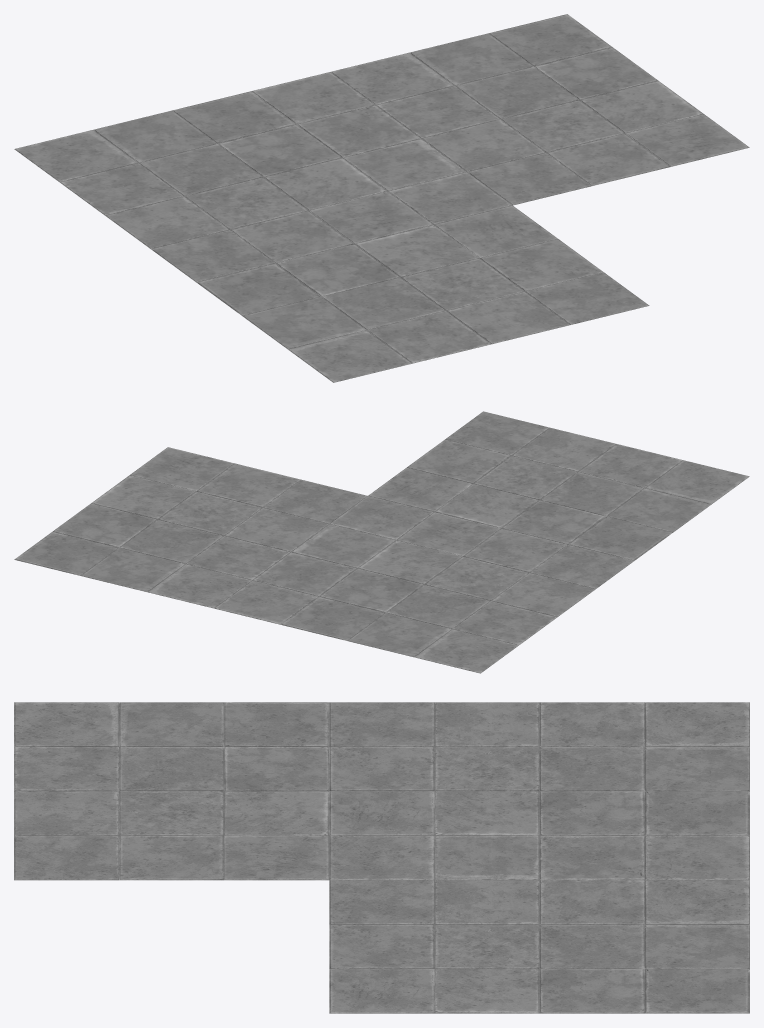
File: SM_Floor_Corner_02.fbx
3 renders of one model, top to bottom at view 1: azimuth 30°, elevation 25°; view 2: azimuth 150°, elevation 25°; view 3: azimuth 270°, elevation 25°, orthographic. The views are drawn at different scales.
Visible parts, largest first — view 1: SM_Floor_Corner_02; view 2: SM_Floor_Corner_02; view 3: SM_Floor_Corner_02.
Boxes of the visible parts, x1,y1,x2,y2 form: SM_Floor_Corner_02: (14, 14, 749, 382); SM_Floor_Corner_02: (14, 411, 749, 673); SM_Floor_Corner_02: (14, 702, 749, 1013).
Size of the model in its own units: 700 by 0.3773 by 700.
